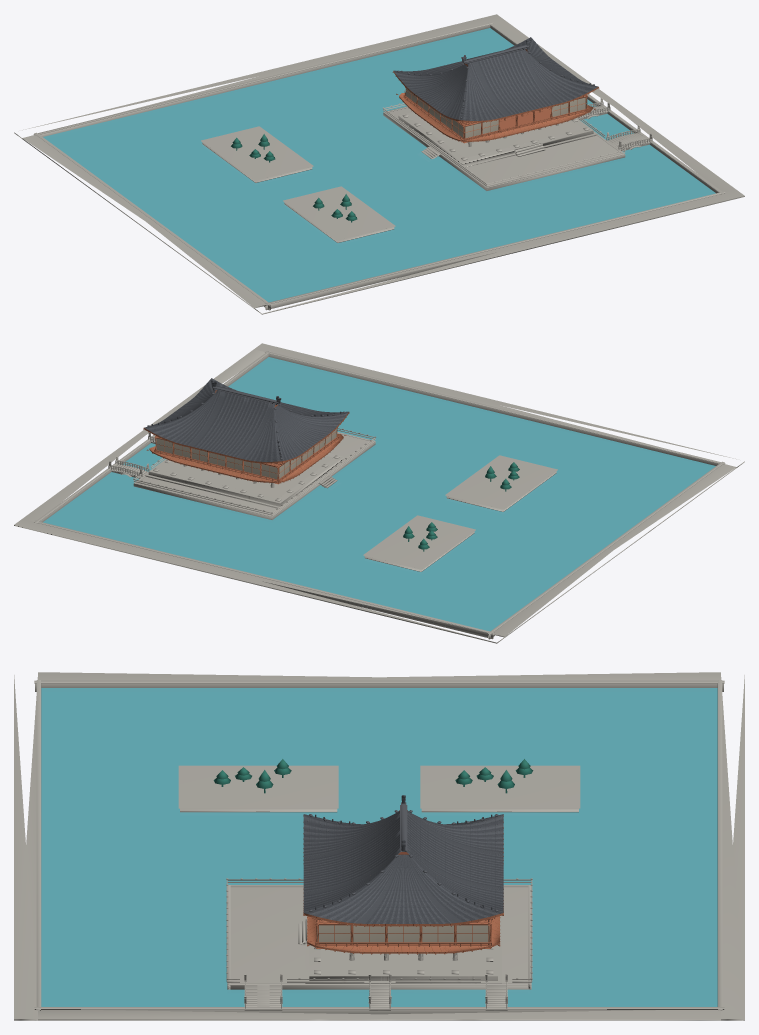
The picture shows the model from 3 angles, top to bottom: view 1: azimuth 30°, elevation 25°; view 2: azimuth 150°, elevation 25°; view 3: azimuth 270°, elevation 25°; orthographic projection. The views are drawn at different scales.
Visible parts, largest first — view 1: pond_water_surface_pbr, pond_revetment_apron, pavilion_upper_roof_paljak, pond_west_islets_2, island_revetment_masonry, pavilion_first_floor_bangjeon, pavilion_plinth_granite, pavilion_changho_panels_hanji, island_stone_balustrade, pavilion_deck_ceiling_band, pond_west_islet_pines, pavilion_second_floor_maru_3tier (+3 smaller); view 2: pond_water_surface_pbr, pond_revetment_apron, pavilion_upper_roof_paljak, pond_west_islets_2, island_revetment_masonry, pavilion_first_floor_bangjeon, pavilion_changho_panels_hanji, pavilion_plinth_granite, island_stone_balustrade, pavilion_deck_ceiling_band, pond_west_islet_pines, pavilion_changho_walls (+1 smaller); view 3: pond_water_surface_pbr, pond_revetment_apron, pavilion_upper_roof_paljak, pond_west_islets_2, island_revetment_masonry, pavilion_first_floor_bangjeon, pavilion_plinth_granite, pavilion_changho_panels_hanji, pond_west_islet_pines, island_stone_balustrade, pavilion_deck_ceiling_band, bridge_01_south_jasimum (+4 smaller).
Boxes of the visible parts, left/top/right/bottom form: pond_water_surface_pbr: left=43, top=28, right=715, bottom=302; pond_revetment_apron: left=14, top=14, right=744, bottom=314; pavilion_upper_roof_paljak: left=394, top=37, right=598, bottom=120; pond_west_islets_2: left=201, top=126, right=395, bottom=242; island_revetment_masonry: left=383, top=106, right=625, bottom=190; pavilion_first_floor_bangjeon: left=409, top=114, right=582, bottom=157; pavilion_plinth_granite: left=395, top=112, right=597, bottom=167; pavilion_changho_panels_hanji: left=406, top=88, right=586, bottom=138; island_stone_balustrade: left=383, top=103, right=625, bottom=186; pavilion_deck_ceiling_band: left=399, top=93, right=592, bottom=140; pond_west_islet_pines: left=231, top=134, right=357, bottom=222; pavilion_second_floor_maru_3tier: left=417, top=97, right=583, bottom=143; pond_water_surface_pbr: left=43, top=357, right=715, bottom=631; pond_revetment_apron: left=14, top=343, right=744, bottom=643; pavilion_upper_roof_paljak: left=144, top=378, right=348, bottom=461; pond_west_islets_2: left=363, top=455, right=557, bottom=571; island_revetment_masonry: left=133, top=432, right=375, bottom=519; pavilion_first_floor_bangjeon: left=159, top=455, right=333, bottom=498; pavilion_changho_panels_hanji: left=156, top=429, right=336, bottom=479; pavilion_plinth_granite: left=145, top=453, right=347, bottom=508; island_stone_balustrade: left=133, top=428, right=375, bottom=515; pavilion_deck_ceiling_band: left=149, top=434, right=343, bottom=481; pond_west_islet_pines: left=403, top=462, right=519, bottom=551; pavilion_changho_walls: left=154, top=431, right=337, bottom=482; pond_water_surface_pbr: left=41, top=688, right=717, bottom=1006; pond_revetment_apron: left=14, top=672, right=744, bottom=1020; pavilion_upper_roof_paljak: left=303, top=810, right=503, bottom=923; pond_west_islets_2: left=178, top=765, right=580, bottom=812; island_revetment_masonry: left=227, top=885, right=531, bottom=989; pavilion_first_floor_bangjeon: left=320, top=949, right=486, bottom=971; pavilion_plinth_granite: left=305, top=915, right=501, bottom=983; pavilion_changho_panels_hanji: left=317, top=925, right=489, bottom=942; pond_west_islet_pines: left=213, top=759, right=533, bottom=793; island_stone_balustrade: left=226, top=878, right=532, bottom=982; pavilion_deck_ceiling_band: left=307, top=916, right=499, bottom=951; bridge_01_south_jasimum: left=244, top=981, right=282, bottom=1010.
Size of the model in its own units: 136 by 22.92 by 121.
Materials: 7 (7 with a texture image).
